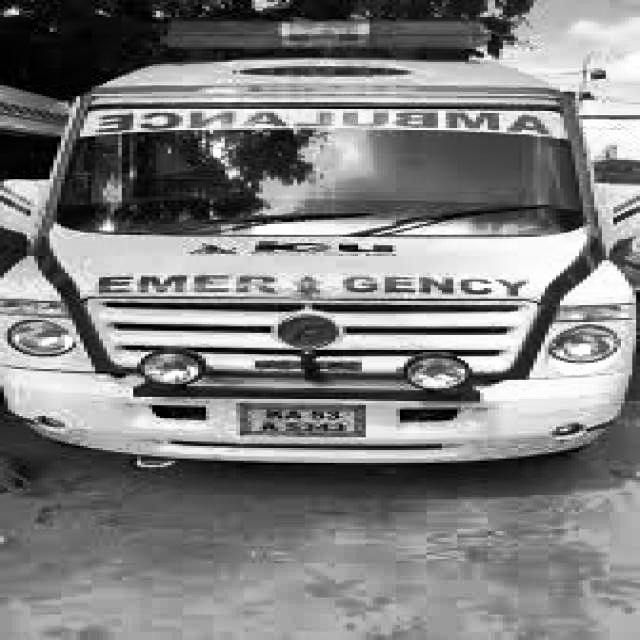LCV: (0, 21, 638, 464)
